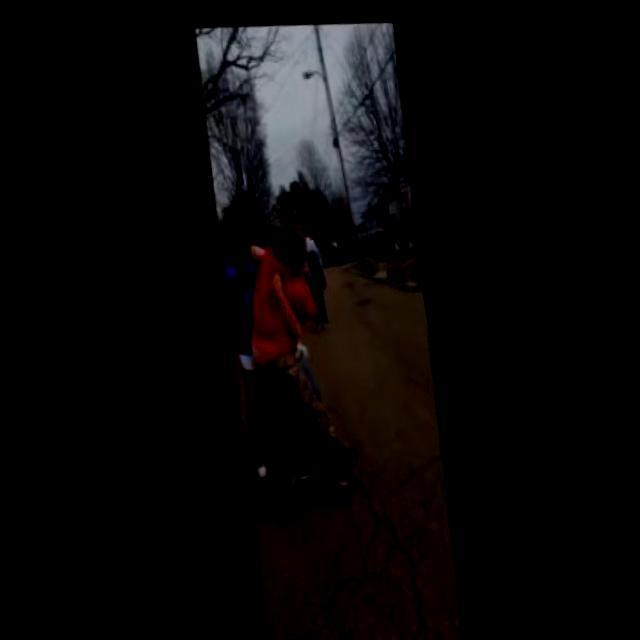fight: (208, 208, 362, 497)
